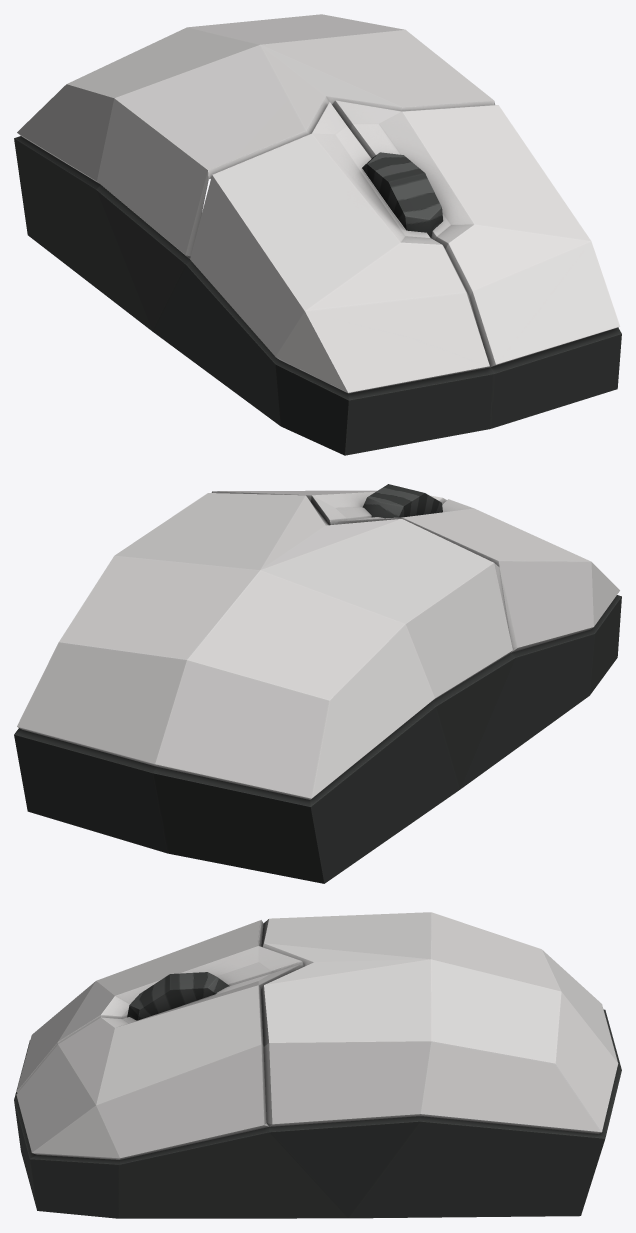
The model's file is ComputerMouse.gltf.
The picture shows the model from 3 angles, top to bottom: view 1: azimuth 30°, elevation 25°; view 2: azimuth 150°, elevation 25°; view 3: azimuth 270°, elevation 25°; orthographic projection. The views are drawn at different scales.
Parts seen in each view (by area): view 1: Nodes; view 2: Nodes; view 3: Nodes.
Boxes of the visible parts, left/top/right/bottom form: Nodes: left=14, top=14, right=621, bottom=455; Nodes: left=14, top=484, right=621, bottom=883; Nodes: left=14, top=912, right=621, bottom=1218.
Bounding box in the file's own units: 2.42 × 1.47 × 4.21.
1 material, 1 textured.
